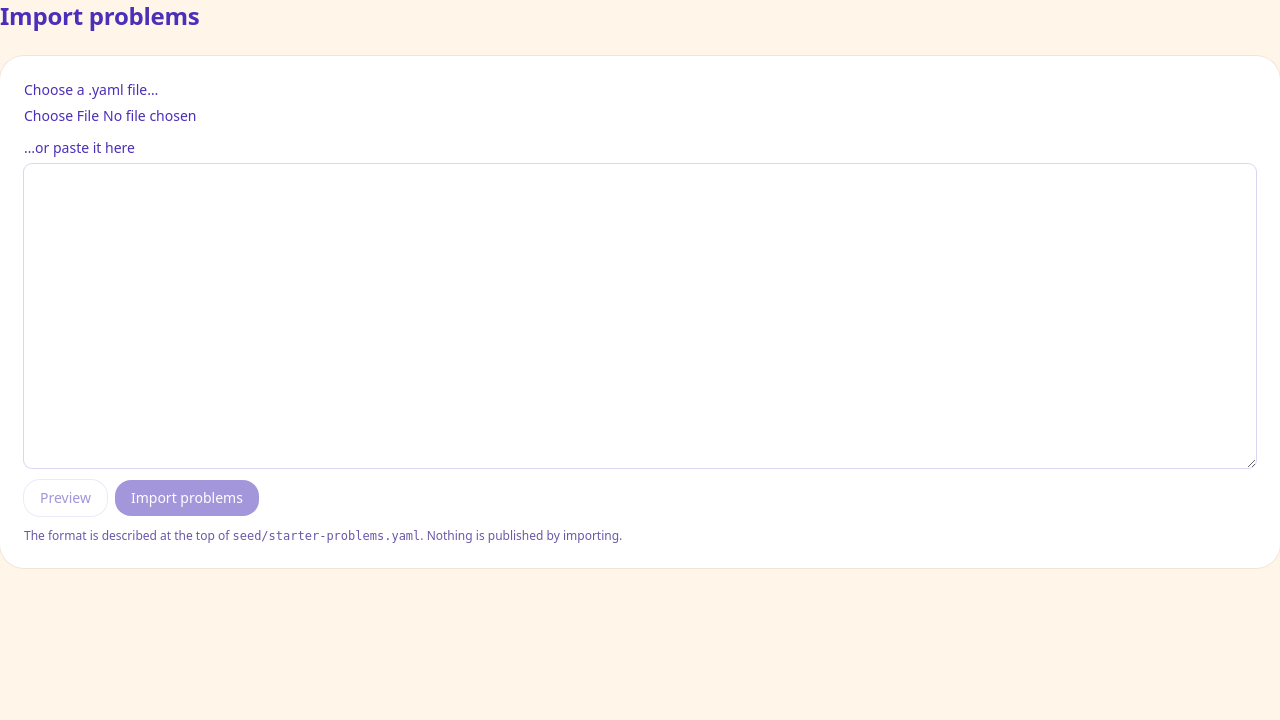
a file with a bad entry cannot be imported
Type "time_travel" into the text box labelled "…or paste it here" at coordinates (640, 316), box x1=24 y1=164 x2=1256 y2=468
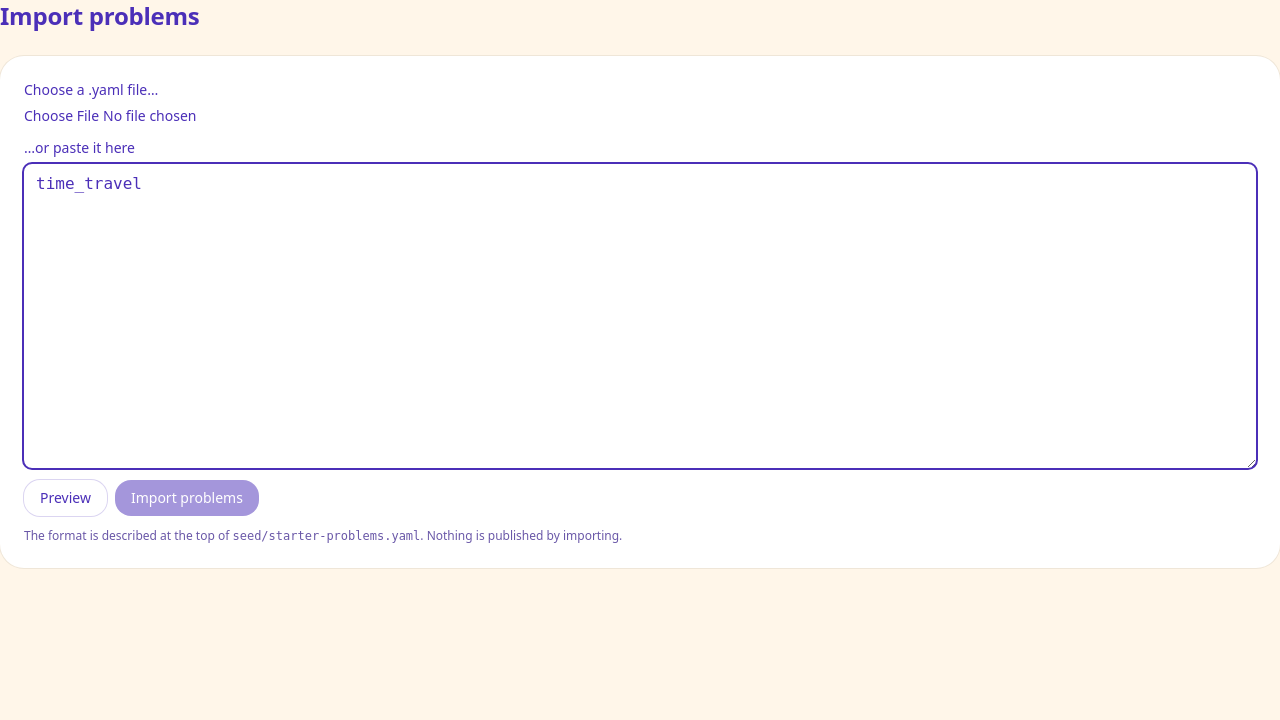
Click the button "Preview" at coordinates (65, 498), box x1=24 y1=480 x2=107 y2=516
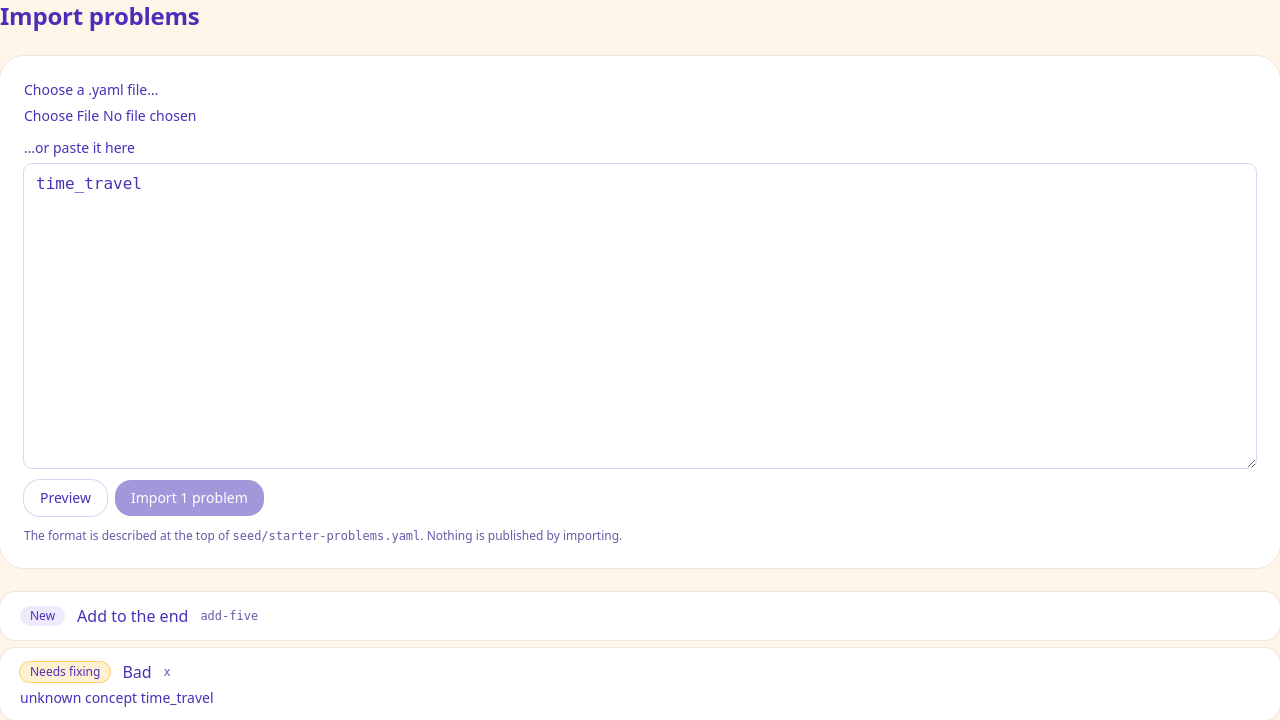
Expected: the button "Import 1 problem" is disabled, x1=115 y1=480 x2=264 y2=516
Expected: the text "unknown concept time_travel" is shown, x1=20 y1=688 x2=214 y2=707
